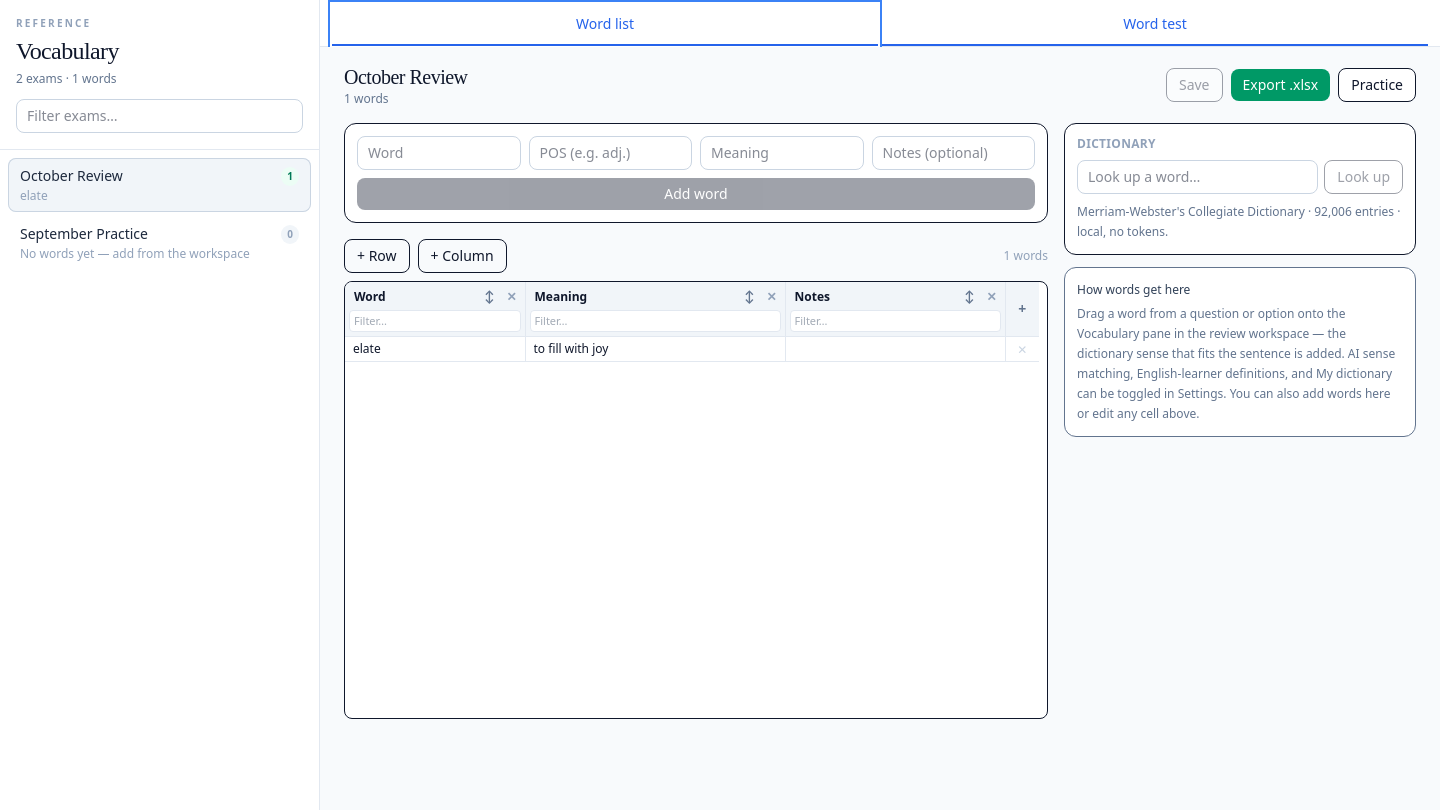
VocabularyPage › switches from the word list to the word test
This screenshot has width=1440, height=810.
expect the element with test id "vocab-grid" is shown: met, box [344,239,1048,719]
Click the tab "Word test" at x=1155, y=25, box [882,4,1428,46]
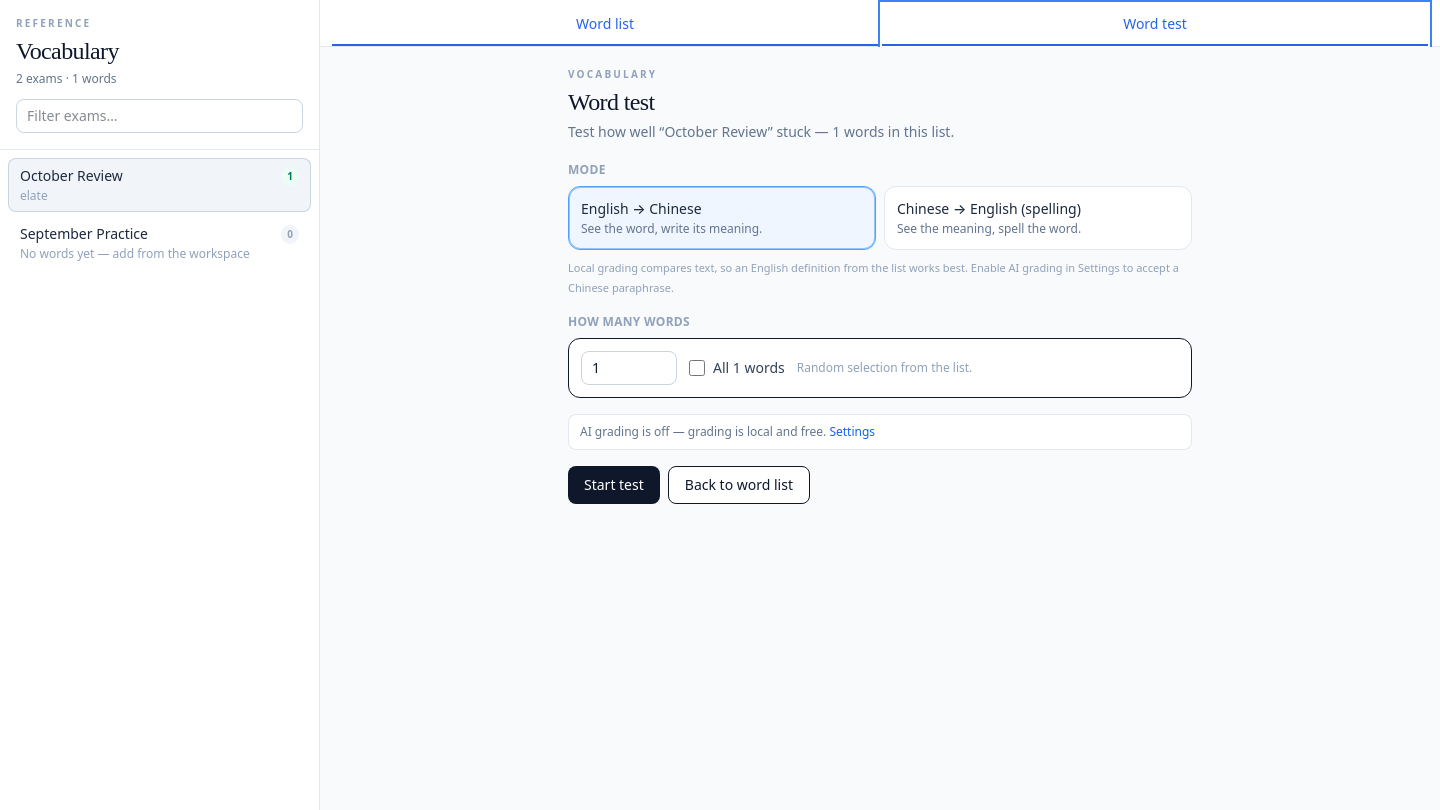
expect the heading "Word test" is shown: met, box [568,89,655,115]
expect the button "Start test" is shown: met, box [568,466,660,504]
Click the tab "Word list" at x=605, y=25, box [332,4,878,46]
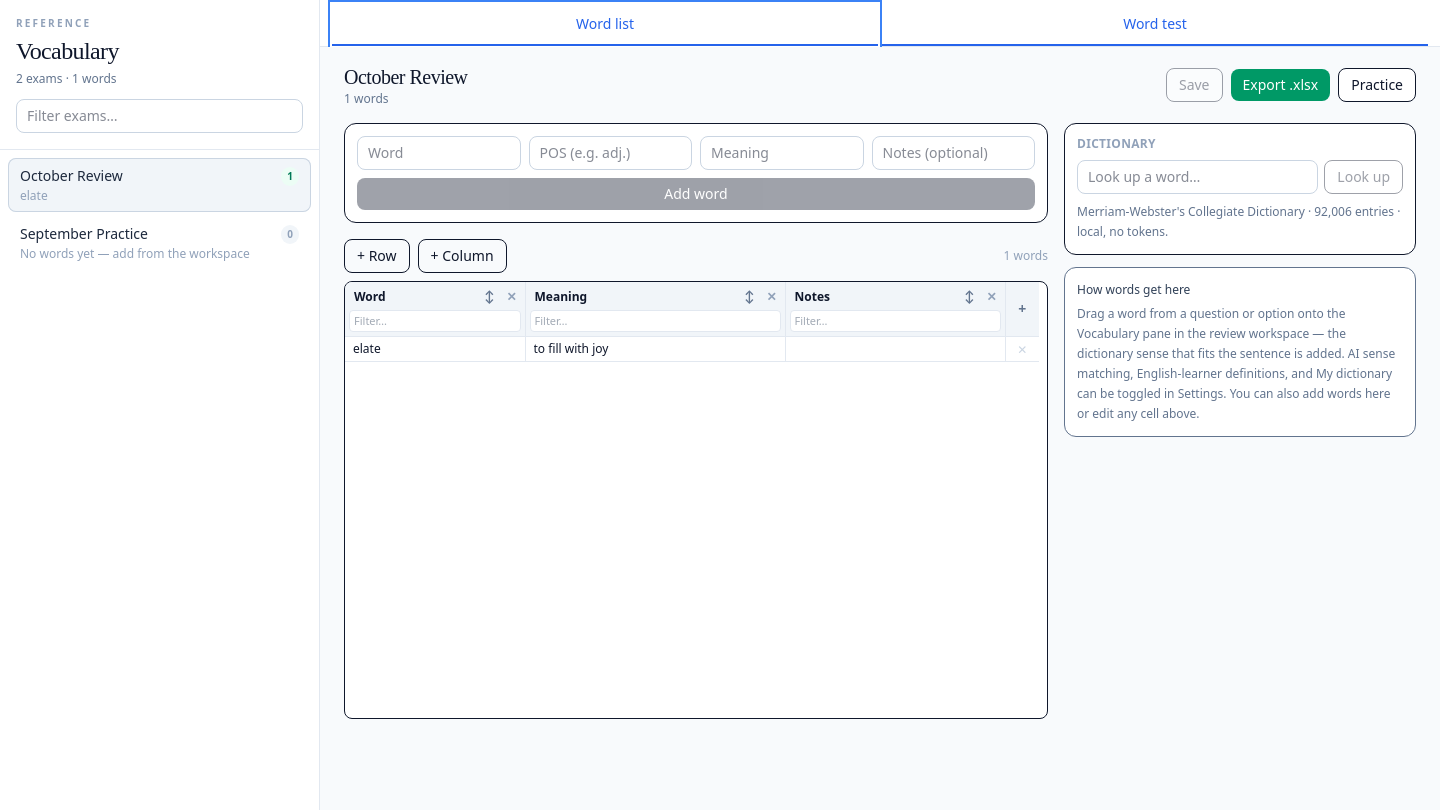
expect the element with test id "vocab-grid" is shown: met, box [344,239,1048,719]
